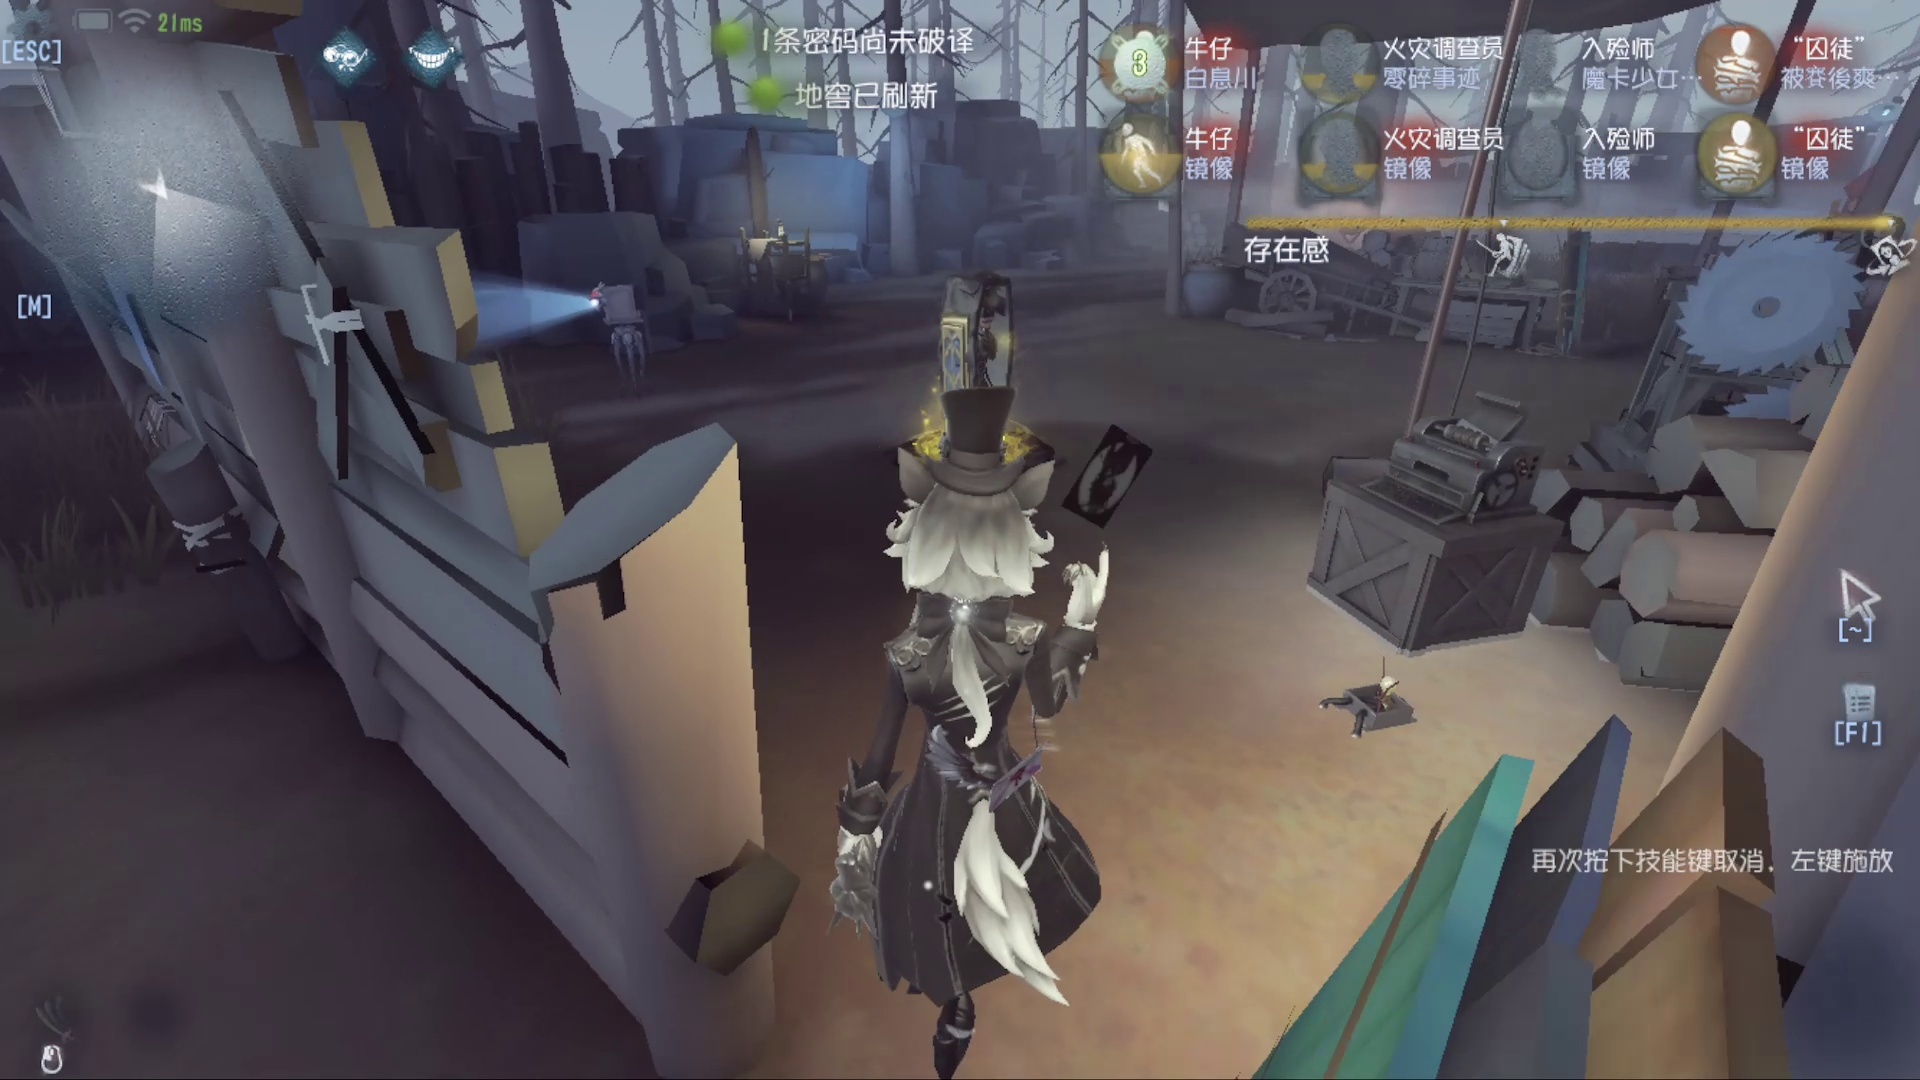密码机: (1288, 342, 1581, 665)
